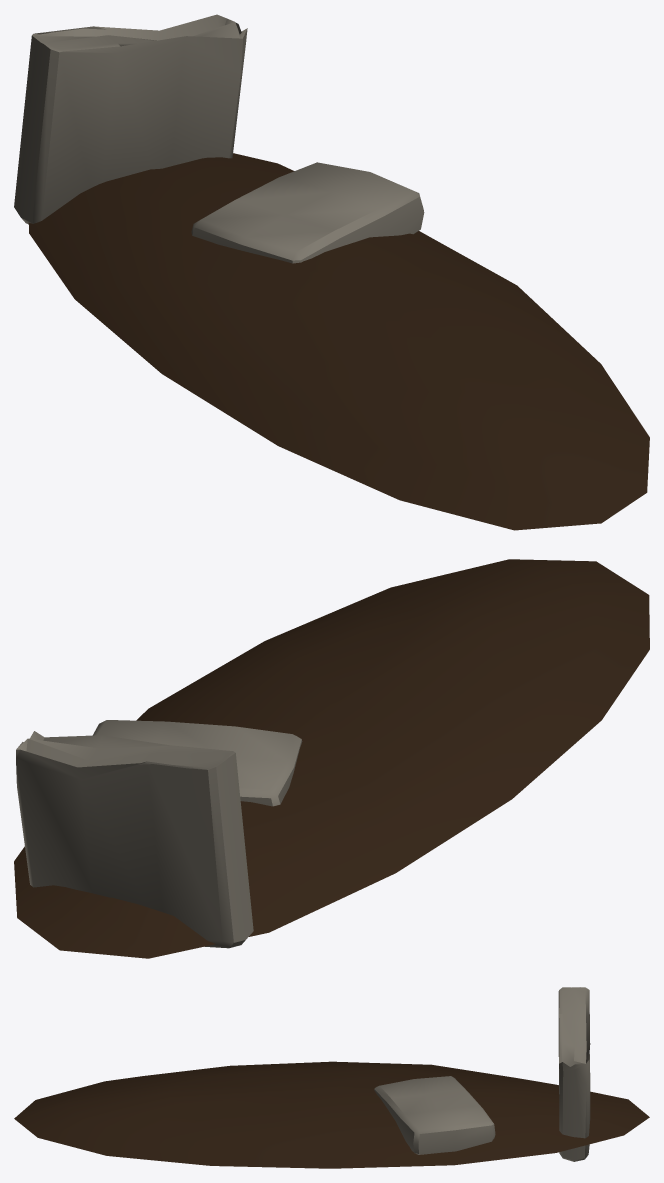
File: grabstein_kaputt.glb
3 renders of one model, top to bottom at view 1: azimuth 30°, elevation 25°; view 2: azimuth 150°, elevation 25°; view 3: azimuth 270°, elevation 25°, orthographic. The views are drawn at different scales.
Parts seen in each view (by area): view 1: grabstein_kaputt; view 2: grabstein_kaputt; view 3: grabstein_kaputt.
Boxes of the visible parts, x1,y1,x2,y2 form: grabstein_kaputt: (14,14,649,530); grabstein_kaputt: (14,559,649,958); grabstein_kaputt: (14,987,649,1168).
Bounding box in the file's own units: 0.9758 × 0.5335 × 2.49.
